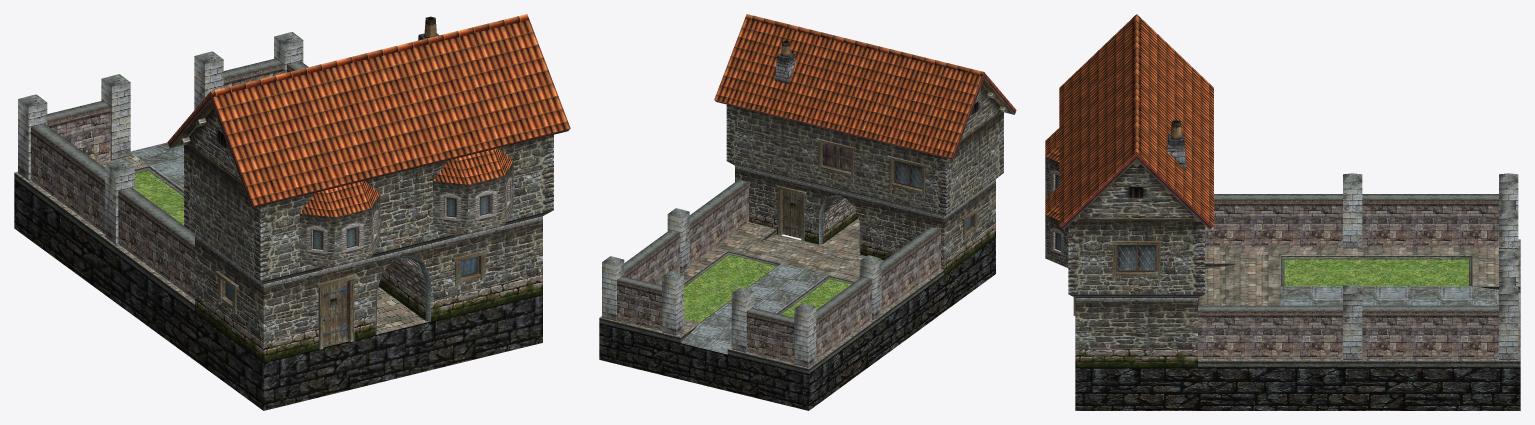
The model's file is S_bld23.glb.
The picture shows the model from 3 angles, left to right: view 1: azimuth 30°, elevation 25°; view 2: azimuth 150°, elevation 25°; view 3: azimuth 270°, elevation 25°; orthographic projection. The views are drawn at different scales.
Visible parts, largest first — view 1: S_bld23; view 2: S_bld23; view 3: S_bld23.
Boxes of the visible parts, bbox=[...] form: S_bld23: bbox=[14, 14, 570, 410]; S_bld23: bbox=[599, 14, 1016, 410]; S_bld23: bbox=[1045, 14, 1520, 410].
Size of the model in its own units: 13.6 by 12.28 by 19.8.
Materials: 23 (23 with a texture image).
